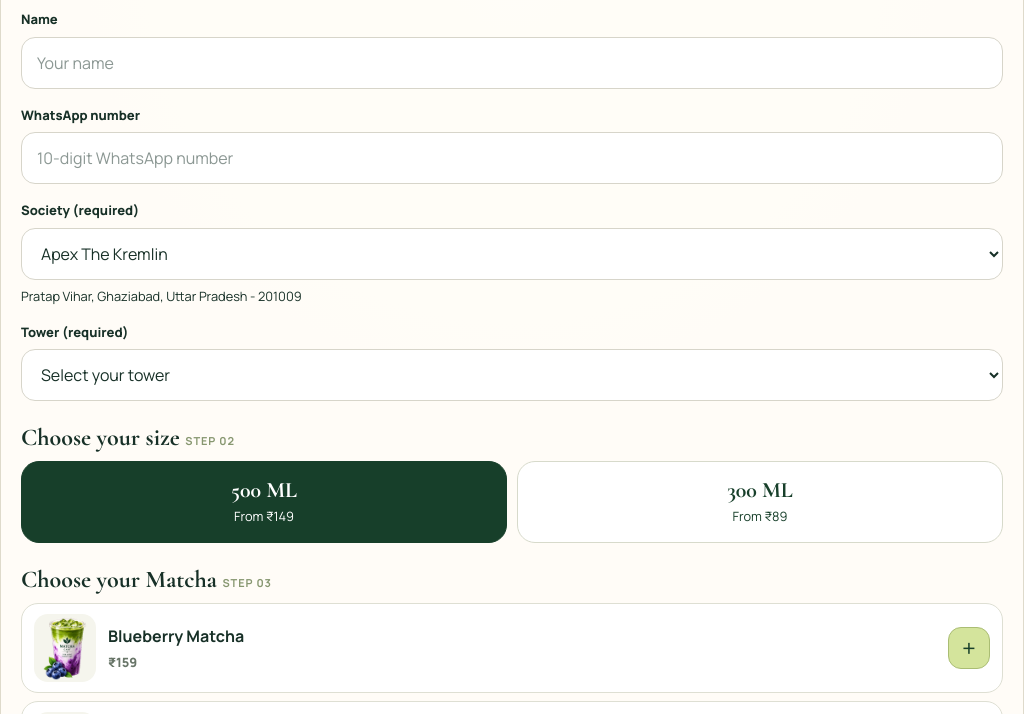
Test case: delivery address selection › keeps Place Order disabled until a drink is selected
Click the button named "Add one Blueberry 500 ML": (969, 648) [948, 627, 990, 669]
(page scrolled)
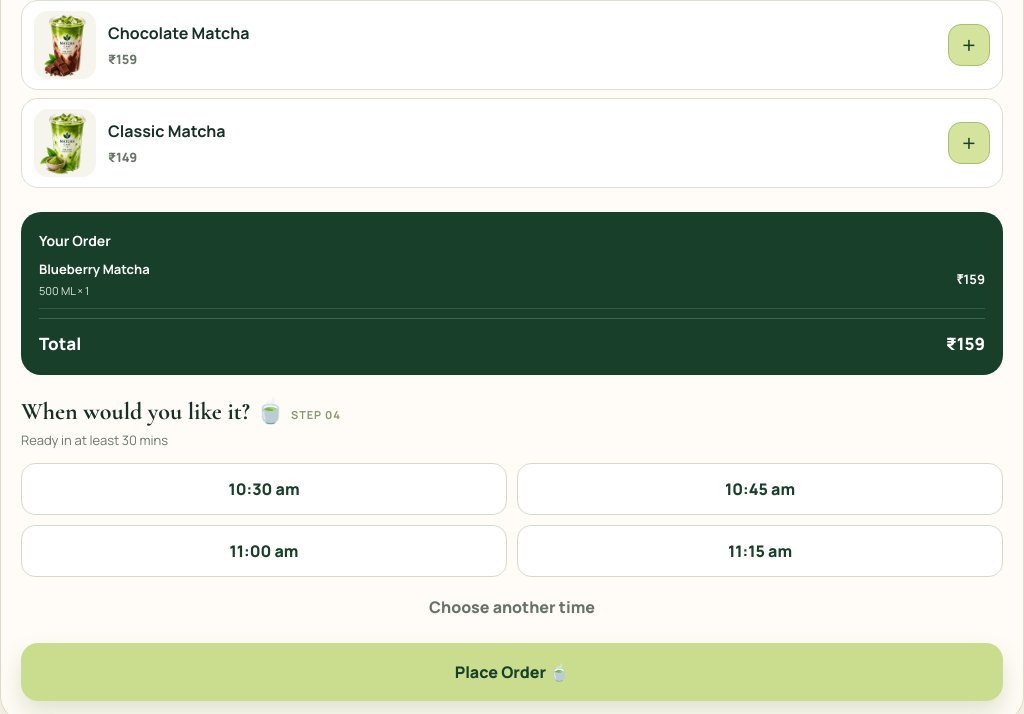
Expected: the button "Place Order 🍵" is enabled, [21, 643, 1003, 701]
